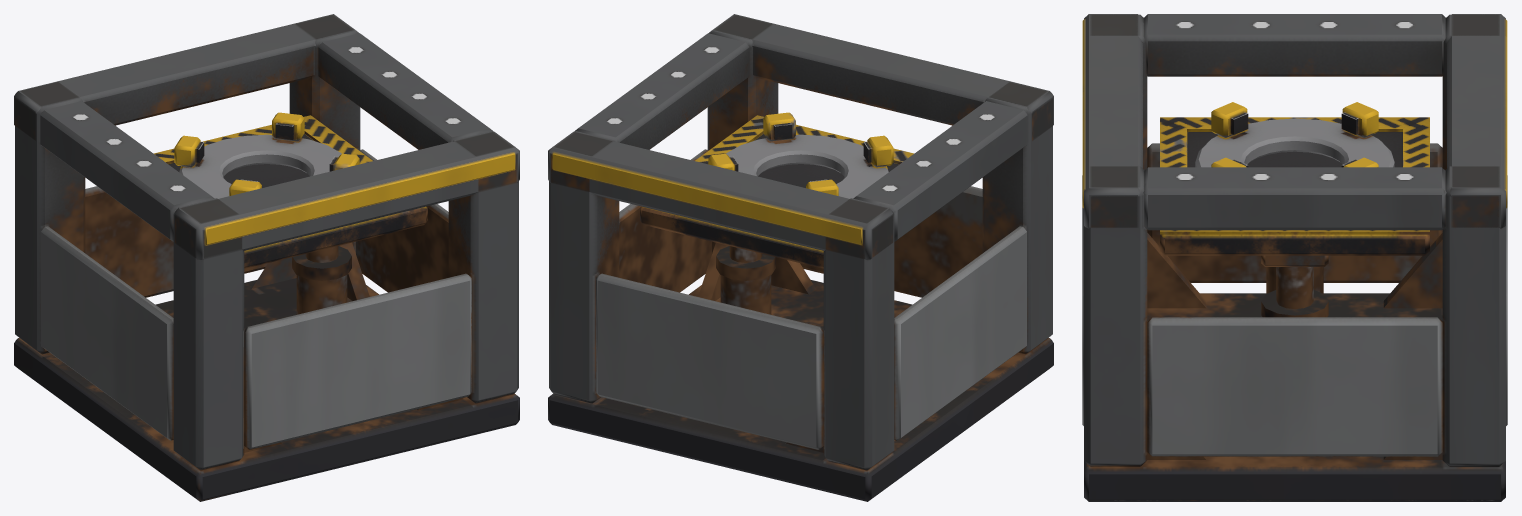
File: R4X_FlyingDroneDeployer.glb
3 views of the same model, side by side, from view 1: azimuth 30°, elevation 25°; view 2: azimuth 150°, elevation 25°; view 3: azimuth 270°, elevation 25° (orthographic). The views are drawn at different scales.
Visible parts, largest first — view 1: R4X_FlyingDroneDeployer_Body, R4X_FlyingDroneDeployer_Iris; view 2: R4X_FlyingDroneDeployer_Body, R4X_FlyingDroneDeployer_Iris; view 3: R4X_FlyingDroneDeployer_Body, R4X_FlyingDroneDeployer_Iris.
Boxes of the visible parts, left/top/right/bottom form: R4X_FlyingDroneDeployer_Body: left=14, top=14, right=519, bottom=501; R4X_FlyingDroneDeployer_Iris: left=174, top=112, right=359, bottom=198; R4X_FlyingDroneDeployer_Body: left=548, top=14, right=1053, bottom=501; R4X_FlyingDroneDeployer_Iris: left=708, top=112, right=893, bottom=198; R4X_FlyingDroneDeployer_Body: left=1082, top=14, right=1507, bottom=501; R4X_FlyingDroneDeployer_Iris: left=1195, top=102, right=1394, bottom=167.
Size of the model in its own units: 0.504 by 0.41 by 0.504.
1 material, 1 textured.
